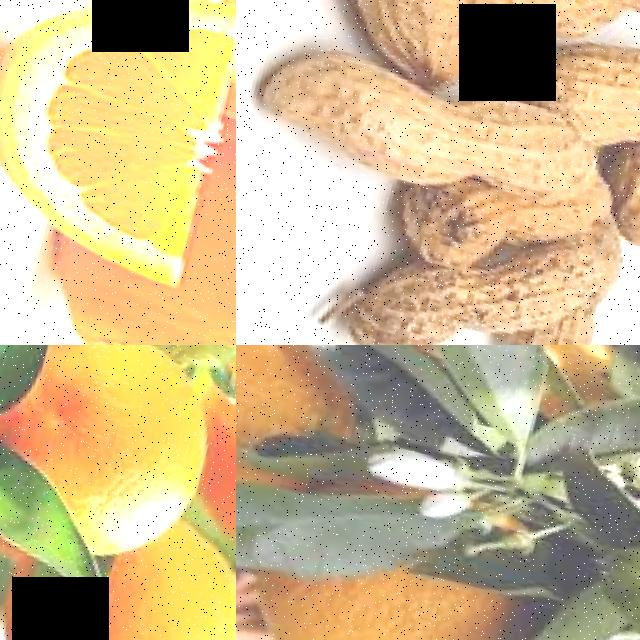orange: (0, 0, 236, 289), (12, 345, 236, 545), (236, 530, 604, 640), (67, 503, 236, 640), (236, 345, 339, 526), (158, 132, 236, 345)
peanuts: (248, 34, 608, 219), (336, 235, 548, 345), (310, 0, 513, 63), (548, 17, 640, 156), (464, 0, 640, 58)
